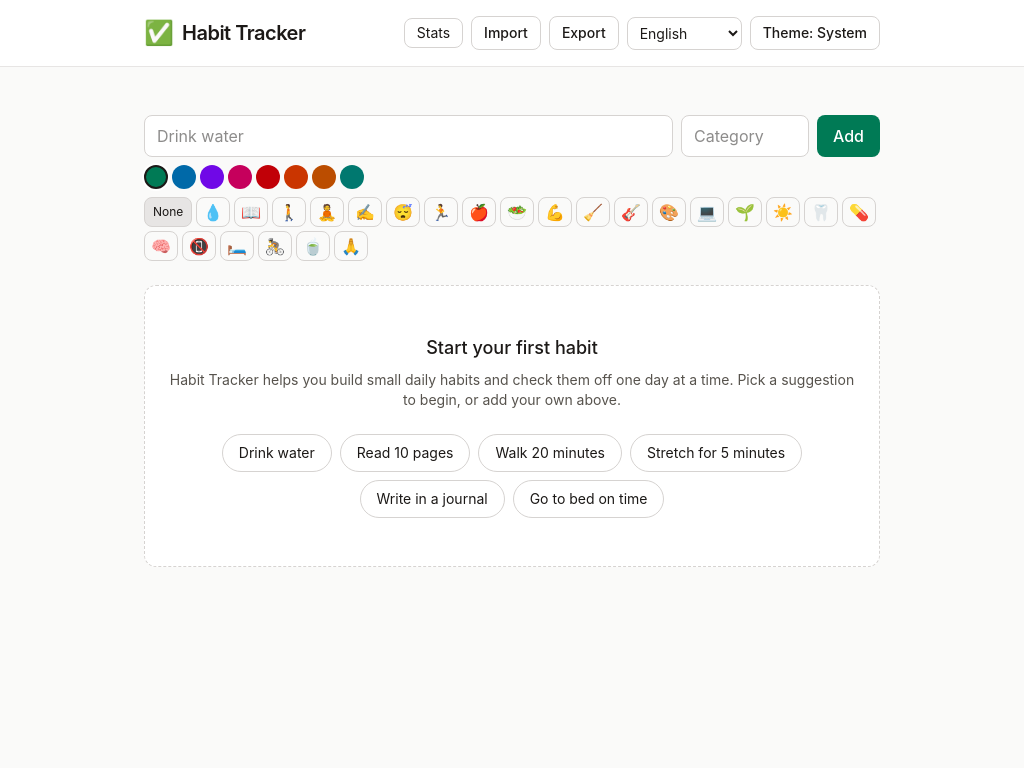
Test: adding habits › shows an added habit and hides the empty state
The width and height of the screenshot is (1024, 768).
Type "Read 10 pages" into the field named "Habit name" at (408, 136), box [144,115,673,157]
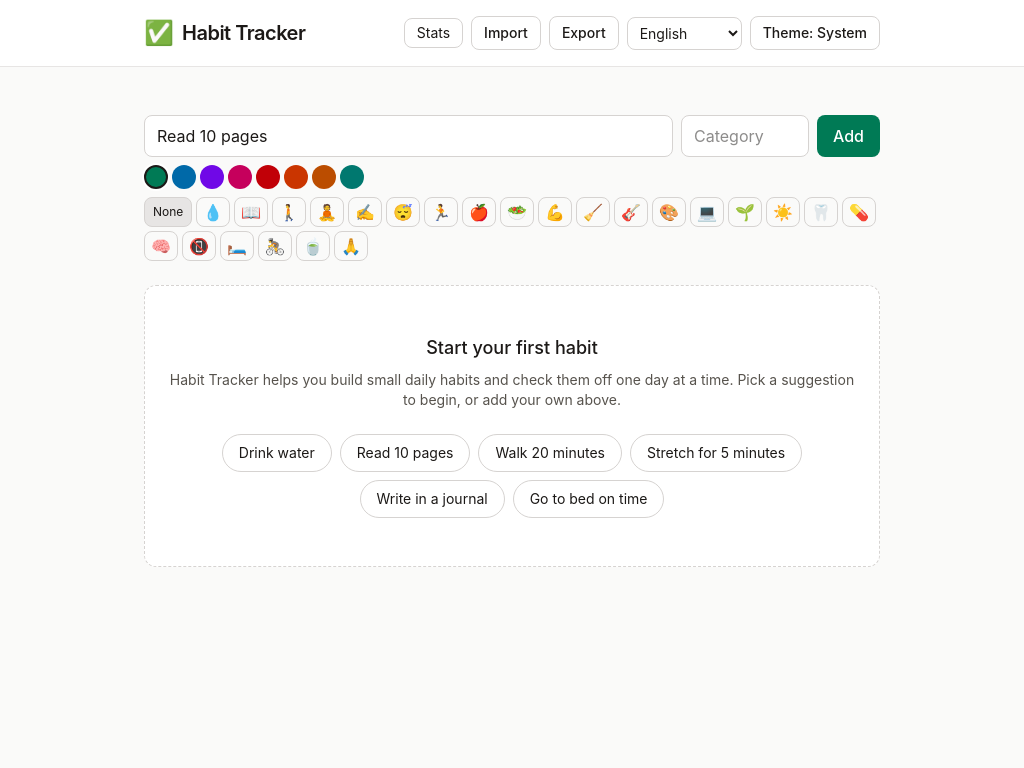
Click the button "Add" at (848, 136), box [817,115,880,157]
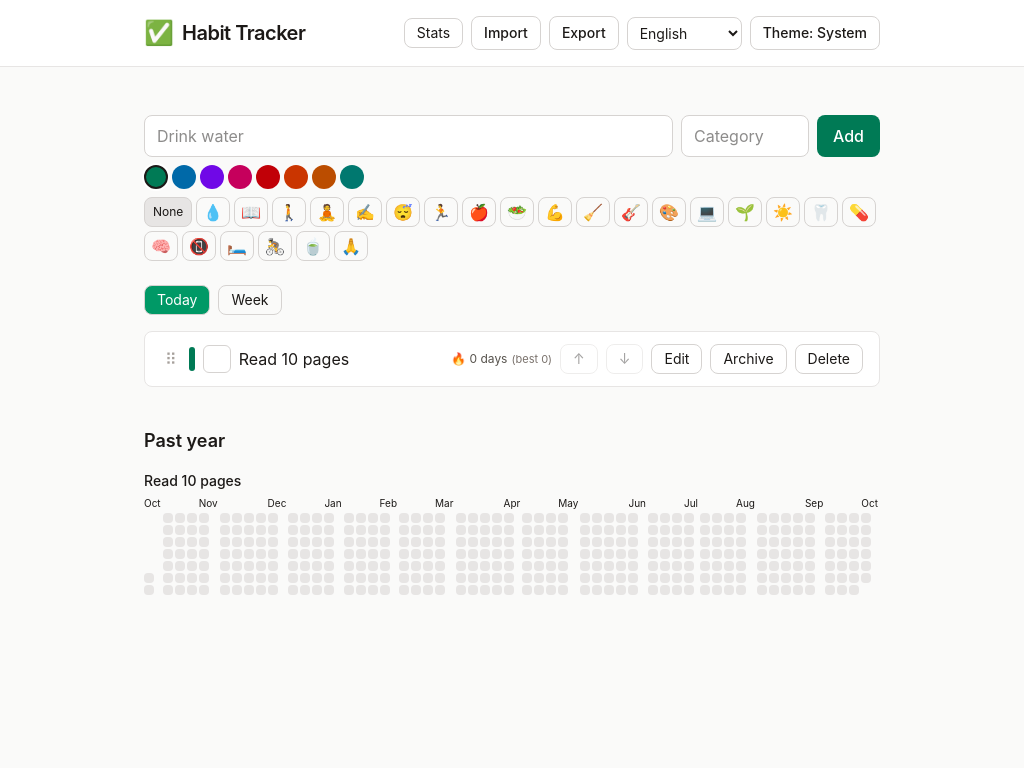
Expected: the list named "Habits" shows "Read 10 pages", [239,349,349,369]
Expected: the heading "Start your first habit" is gone
